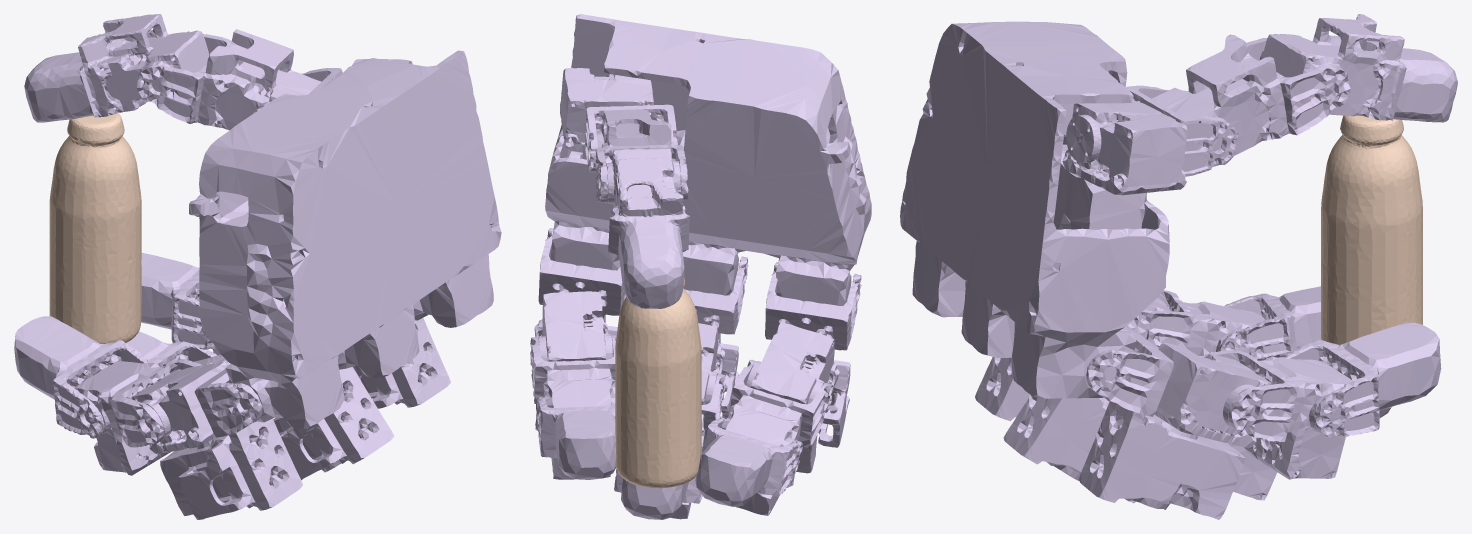
Rendered from e93c8561fbaef9-closed.glb.
3 renders of one model, left to right at view 1: azimuth 30°, elevation 25°; view 2: azimuth 150°, elevation 25°; view 3: azimuth 270°, elevation 25°, orthographic. The views are drawn at different scales.
Visible parts, largest first — view 1: LEAP_hand, world; view 2: LEAP_hand, world; view 3: LEAP_hand, world.
Boxes of the visible parts, x1,y1,x2,y2 form: LEAP_hand: [14, 14, 501, 519]; world: [49, 113, 141, 343]; LEAP_hand: [530, 14, 871, 519]; world: [615, 278, 701, 488]; LEAP_hand: [900, 14, 1457, 519]; world: [1321, 115, 1422, 344].
Bounding box in the file's own units: 0.1478 × 0.1764 × 0.1867.
